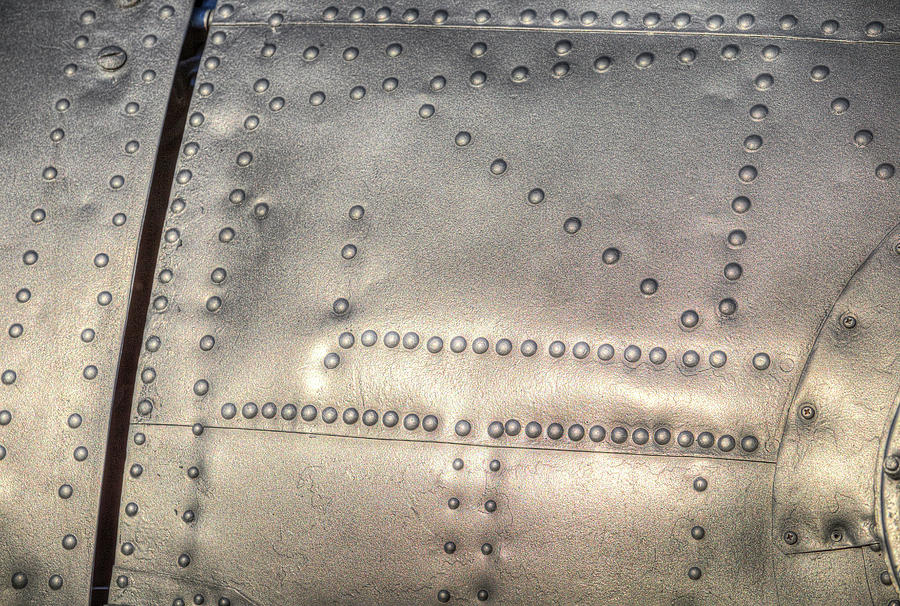bolt: (880, 453, 900, 481)
rivet: (599, 245, 621, 269), (646, 344, 668, 367), (561, 215, 582, 239), (716, 297, 739, 318), (681, 348, 702, 369), (679, 308, 700, 329), (470, 336, 491, 357), (751, 351, 773, 371), (547, 338, 567, 360), (873, 162, 896, 181), (10, 570, 30, 591), (708, 349, 729, 369), (321, 350, 341, 371), (566, 422, 586, 443), (623, 344, 644, 364), (571, 341, 592, 361), (742, 134, 764, 153), (737, 164, 759, 183), (220, 401, 240, 421), (723, 262, 743, 282), (338, 241, 358, 261), (331, 296, 351, 316), (358, 329, 378, 349), (488, 155, 508, 175), (638, 276, 657, 297), (337, 330, 356, 351), (545, 420, 564, 441), (524, 419, 543, 440), (503, 417, 522, 438), (449, 335, 468, 356), (727, 229, 747, 248), (739, 435, 759, 454), (587, 424, 607, 443), (381, 409, 400, 429), (401, 331, 420, 351), (426, 335, 445, 355), (494, 337, 513, 357), (526, 187, 545, 207), (518, 339, 538, 358), (852, 130, 873, 148), (754, 73, 775, 91), (731, 196, 752, 214), (341, 407, 360, 426), (49, 126, 68, 145), (79, 9, 98, 28), (136, 398, 155, 417), (610, 426, 629, 445), (631, 427, 650, 446), (383, 330, 402, 349), (453, 419, 472, 438), (301, 403, 319, 423), (1, 368, 19, 388), (40, 164, 60, 182), (429, 75, 447, 95), (468, 70, 488, 88), (635, 52, 655, 70), (778, 14, 798, 32), (830, 96, 850, 114), (402, 412, 420, 432), (487, 419, 505, 439), (610, 10, 631, 27), (808, 65, 829, 82), (748, 104, 769, 121), (361, 409, 380, 427), (320, 406, 339, 424), (72, 443, 90, 462), (81, 363, 100, 381), (241, 401, 259, 420), (192, 378, 210, 397), (431, 9, 450, 27), (697, 431, 715, 450), (686, 562, 704, 581), (347, 204, 366, 222), (421, 414, 439, 433), (596, 344, 615, 362), (28, 207, 48, 224), (510, 65, 530, 82), (820, 19, 840, 36), (720, 44, 740, 61), (49, 571, 65, 592), (863, 21, 884, 37), (281, 402, 299, 420), (261, 402, 279, 420), (124, 500, 142, 518), (141, 367, 159, 385), (199, 334, 217, 352), (210, 267, 228, 285), (218, 226, 236, 244), (268, 96, 286, 114), (654, 427, 672, 445), (676, 430, 694, 448), (717, 434, 735, 452), (67, 411, 84, 430), (22, 249, 39, 268), (163, 228, 182, 245), (229, 188, 248, 205), (321, 6, 340, 23), (402, 8, 421, 25), (385, 42, 404, 59), (381, 76, 400, 93), (469, 42, 488, 59), (552, 62, 571, 79), (554, 39, 573, 56), (519, 7, 538, 24), (761, 43, 780, 60), (549, 9, 569, 25), (705, 15, 725, 31), (677, 48, 697, 64), (58, 483, 75, 501), (7, 322, 25, 339), (16, 287, 33, 305), (96, 290, 114, 307), (94, 252, 112, 269), (73, 35, 91, 52), (206, 295, 224, 312), (158, 267, 175, 285), (176, 168, 193, 186), (244, 114, 261, 132), (349, 86, 367, 103), (455, 131, 473, 148), (418, 103, 436, 120), (642, 12, 660, 29), (436, 587, 453, 605), (692, 476, 709, 494), (62, 532, 78, 551), (53, 97, 72, 113), (61, 61, 80, 77), (183, 142, 202, 158), (217, 4, 236, 20), (473, 9, 492, 25), (672, 13, 691, 29), (176, 552, 193, 569), (81, 327, 98, 344), (146, 336, 163, 353), (237, 151, 254, 168), (188, 112, 206, 128), (253, 78, 271, 94), (268, 12, 286, 28), (309, 91, 327, 107), (303, 45, 321, 61), (374, 6, 392, 22), (342, 47, 360, 63), (593, 57, 611, 73), (580, 10, 598, 26), (737, 14, 755, 30), (203, 57, 222, 72), (481, 499, 500, 514), (129, 461, 145, 478), (120, 540, 136, 557), (170, 199, 187, 215), (109, 174, 126, 190), (124, 140, 141, 156), (690, 524, 707, 540), (210, 31, 228, 46), (197, 83, 215, 98), (348, 7, 366, 22), (1, 408, 15, 427), (186, 464, 202, 480), (191, 422, 207, 438), (474, 587, 490, 603), (111, 213, 128, 228), (124, 101, 142, 115), (260, 44, 278, 58), (157, 6, 176, 19), (182, 507, 197, 523), (441, 540, 457, 555), (446, 495, 461, 511), (140, 69, 157, 83), (153, 297, 168, 312), (116, 573, 130, 589), (142, 33, 158, 47), (254, 204, 269, 218), (488, 458, 502, 473), (133, 432, 147, 446), (480, 541, 494, 555), (452, 457, 466, 471), (192, 591, 205, 606), (218, 596, 232, 606)
screw: (96, 44, 130, 73), (842, 314, 859, 331), (782, 530, 799, 546), (800, 406, 817, 422), (827, 529, 843, 543)
